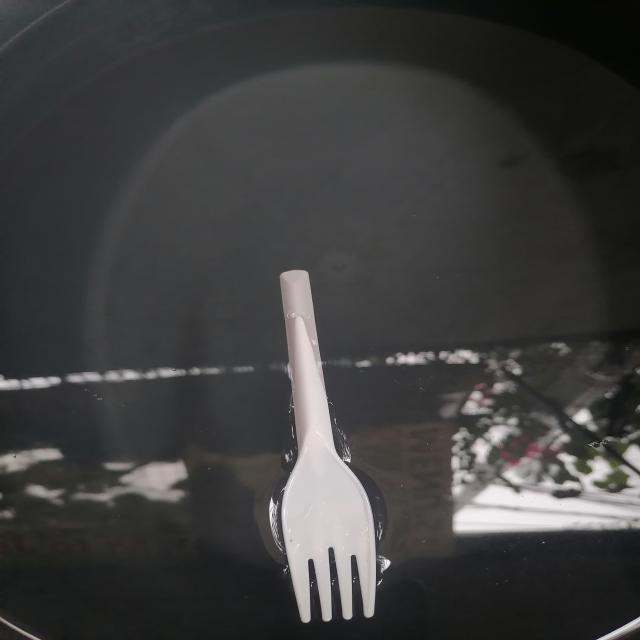Plastic Fork: (280, 271, 376, 622)
